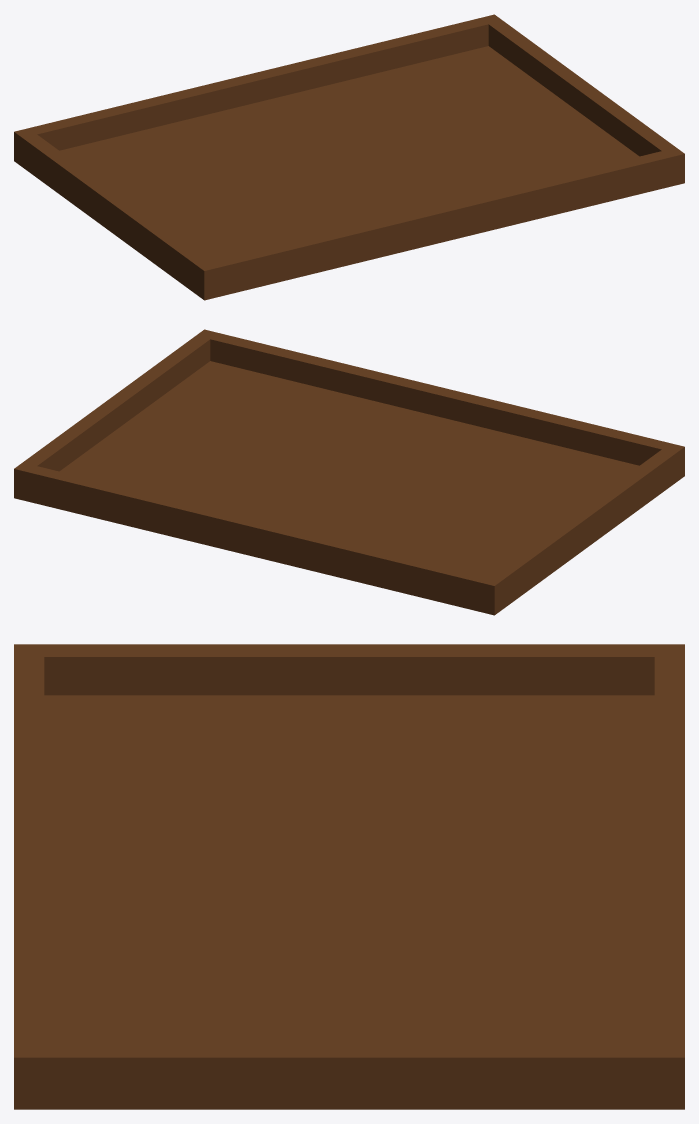
The model's file is fbx_hamburger_tray.fbx.
3 views of the same model, one above another, from view 1: azimuth 30°, elevation 25°; view 2: azimuth 150°, elevation 25°; view 3: azimuth 270°, elevation 25° (orthographic). The views are drawn at different scales.
Visible parts, largest first — view 1: fbx_hamburger_tray; view 2: fbx_hamburger_tray; view 3: fbx_hamburger_tray.
Part boxes in pixels (box(x1,y1,x2,y2)): fbx_hamburger_tray: box(14, 14, 684, 300); fbx_hamburger_tray: box(14, 329, 684, 615); fbx_hamburger_tray: box(14, 644, 684, 1109).
Size of the model in its own units: 2.14 by 0.125 by 1.47.
1 material, 1 textured.
